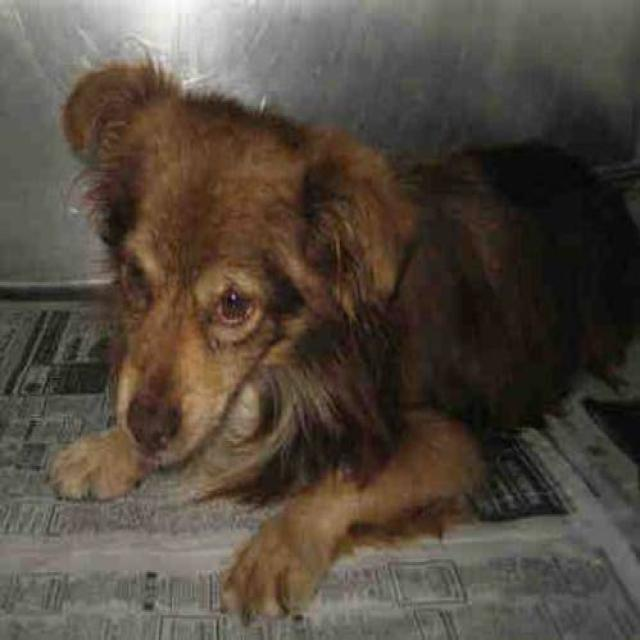dog: (45, 53, 639, 622)
